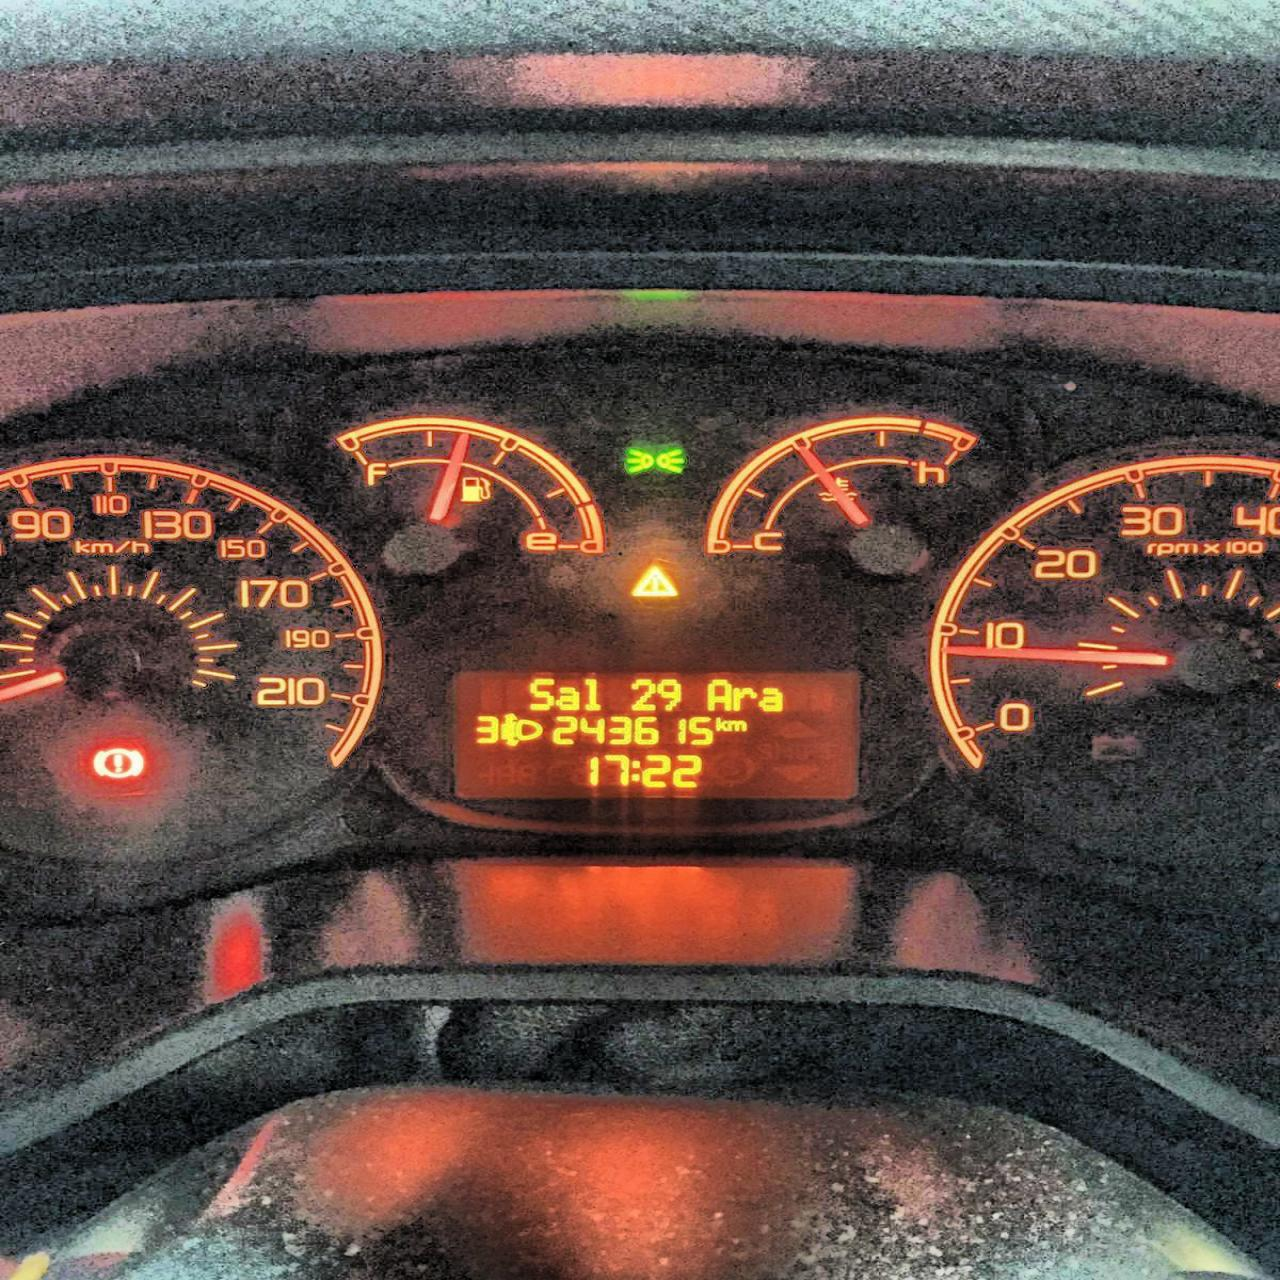1: (585, 751, 600, 787), (674, 715, 688, 744)
2: (670, 753, 702, 790), (642, 754, 669, 788), (629, 678, 655, 712), (553, 715, 577, 745)
3: (475, 713, 499, 744), (607, 714, 631, 744)
4: (579, 716, 607, 745)
5: (689, 715, 715, 748)
6: (634, 715, 659, 745)
7: (602, 753, 629, 787)
9: (656, 676, 682, 712)
X: (529, 675, 553, 710), (706, 676, 730, 712), (758, 686, 784, 713), (584, 676, 602, 712), (557, 685, 579, 712), (731, 686, 754, 713), (714, 714, 730, 731), (728, 717, 747, 733), (631, 757, 642, 781)
odometer: (449, 663, 862, 805)
